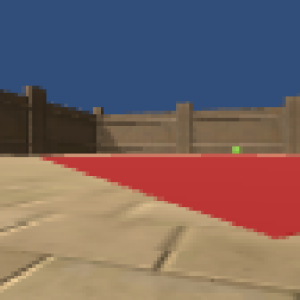deathZone: (42, 155, 300, 240)
goodGoal: (229, 144, 246, 158)
